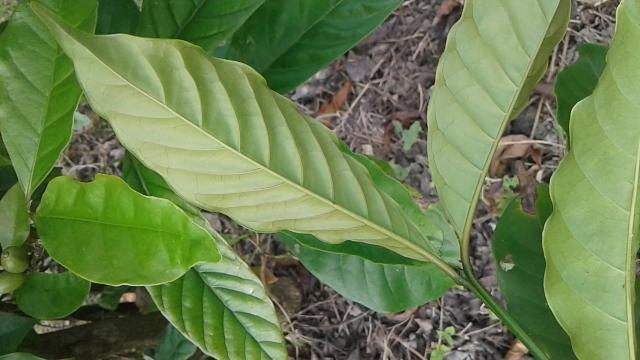healthy: (32, 2, 448, 268)
